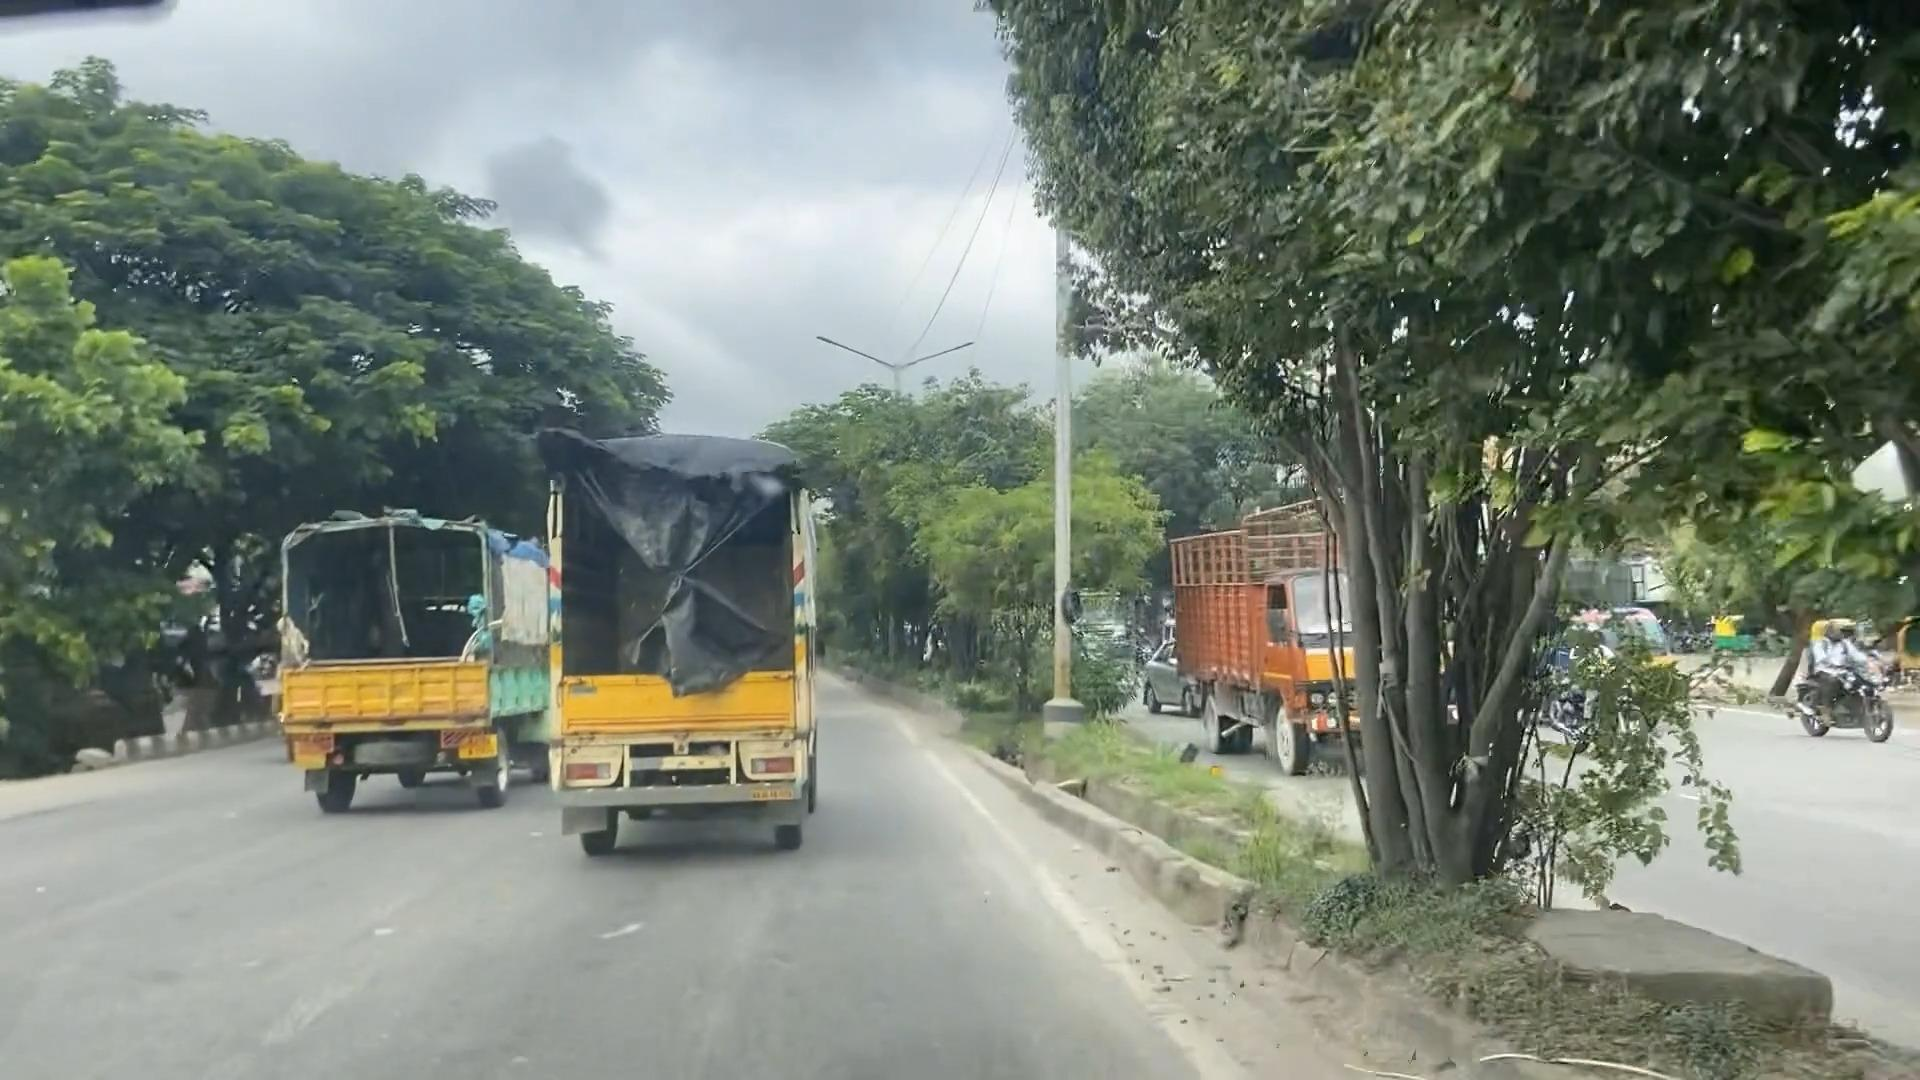HMV: (508, 382, 820, 885), (265, 491, 551, 825)
